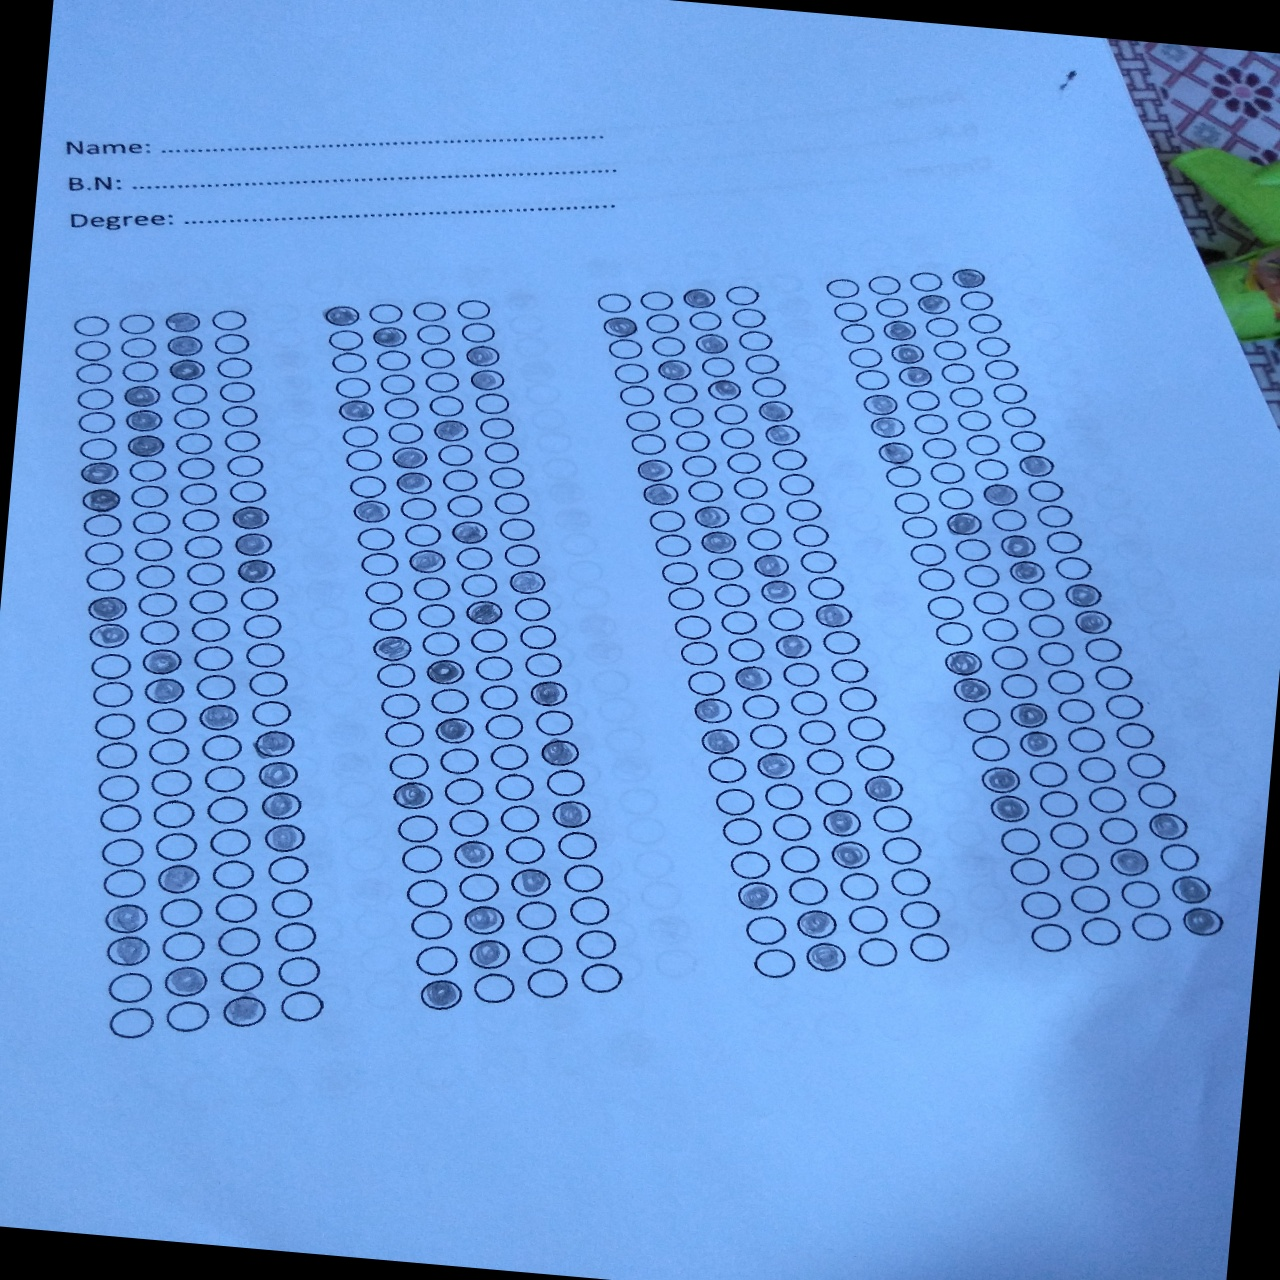not-c: (571, 925, 620, 962), (577, 960, 626, 998), (522, 964, 571, 1001), (217, 959, 265, 996), (268, 885, 316, 922), (211, 890, 259, 927), (751, 945, 799, 982), (742, 912, 790, 949), (162, 998, 211, 1034), (275, 988, 325, 1024), (274, 954, 324, 990), (270, 919, 319, 955), (156, 894, 205, 931), (263, 852, 312, 888), (517, 931, 566, 967), (853, 935, 903, 972), (215, 922, 263, 959), (159, 928, 207, 965), (209, 857, 257, 893), (470, 971, 518, 1007), (107, 1005, 156, 1040), (905, 930, 954, 965), (896, 898, 944, 933), (204, 792, 251, 828), (148, 765, 195, 801), (98, 835, 147, 869), (105, 971, 154, 1005), (207, 824, 253, 859), (1046, 817, 1091, 852), (1077, 914, 1123, 949), (787, 874, 833, 908), (760, 779, 806, 813), (704, 753, 751, 787), (845, 903, 892, 937), (712, 785, 760, 818), (850, 741, 898, 774), (151, 797, 196, 832), (248, 695, 293, 730), (101, 866, 147, 900), (198, 731, 244, 765), (144, 703, 190, 737), (445, 806, 491, 840), (1017, 888, 1063, 922), (1028, 921, 1074, 955), (1068, 881, 1114, 915), (145, 736, 192, 769), (245, 667, 292, 700), (728, 849, 775, 881), (777, 843, 824, 876), (878, 835, 925, 867), (869, 803, 915, 836), (719, 815, 765, 847), (801, 745, 847, 778), (154, 830, 198, 864), (543, 765, 587, 799), (497, 801, 542, 835), (400, 842, 444, 876), (456, 870, 501, 904), (503, 833, 547, 867), (515, 898, 559, 932), (409, 908, 454, 942), (414, 944, 458, 978), (998, 824, 1042, 858), (1007, 855, 1051, 888), (1057, 850, 1102, 884), (1157, 840, 1201, 874), (94, 740, 139, 772), (97, 802, 143, 835), (202, 763, 247, 796), (394, 813, 440, 846), (836, 870, 881, 903), (769, 811, 815, 844), (1116, 878, 1162, 911), (887, 866, 934, 898), (810, 776, 857, 808), (561, 862, 605, 896), (96, 771, 141, 804), (192, 670, 237, 703), (441, 775, 485, 808), (554, 830, 599, 863), (1129, 910, 1173, 942), (1133, 779, 1179, 811), (91, 709, 138, 740), (468, 625, 512, 656), (492, 771, 537, 803), (90, 679, 134, 710), (375, 660, 418, 692), (567, 896, 611, 927), (844, 713, 887, 744), (779, 659, 823, 690), (243, 640, 287, 670), (517, 621, 561, 652), (476, 682, 520, 713), (531, 708, 576, 738), (240, 611, 282, 642), (90, 651, 132, 682), (406, 877, 448, 908), (137, 617, 181, 647), (366, 604, 409, 634), (413, 600, 456, 631), (427, 686, 470, 716), (471, 654, 515, 685), (382, 720, 425, 750), (486, 742, 530, 772), (685, 668, 728, 699), (670, 612, 714, 642), (1036, 789, 1080, 819), (81, 539, 125, 568), (134, 561, 178, 591), (135, 590, 179, 619), (377, 692, 422, 721), (794, 717, 838, 747), (1096, 816, 1141, 845), (192, 644, 234, 674), (747, 721, 789, 751), (788, 688, 830, 719), (740, 692, 782, 722), (821, 627, 863, 658), (678, 639, 720, 669), (665, 584, 707, 614), (658, 558, 700, 588), (960, 706, 1002, 736), (969, 733, 1012, 763), (1027, 758, 1069, 789), (183, 559, 226, 588), (189, 615, 232, 645), (420, 629, 463, 659), (520, 651, 564, 680), (482, 712, 525, 741), (387, 753, 430, 782), (837, 685, 880, 714), (724, 636, 768, 666), (1085, 784, 1129, 813), (237, 585, 281, 613), (1114, 721, 1155, 751), (1075, 755, 1116, 785), (84, 565, 127, 594), (188, 587, 230, 617), (438, 745, 481, 775), (828, 656, 870, 686), (790, 520, 832, 550), (933, 619, 975, 648), (989, 644, 1032, 673), (1035, 640, 1077, 669), (1092, 663, 1135, 693), (129, 483, 172, 511), (493, 516, 537, 544), (359, 550, 402, 578), (510, 595, 553, 624), (797, 549, 840, 577), (646, 506, 689, 535), (1054, 697, 1097, 726), (402, 522, 445, 550), (998, 672, 1039, 701), (1103, 692, 1144, 721), (1065, 726, 1107, 755), (1126, 750, 1167, 779), (77, 435, 120, 463), (130, 509, 172, 537), (356, 526, 399, 554), (396, 495, 438, 523), (717, 608, 760, 636), (764, 605, 806, 633), (804, 574, 846, 602), (704, 554, 747, 583), (744, 525, 787, 553), (652, 531, 694, 559), (1082, 635, 1124, 663), (1044, 668, 1087, 696), (81, 511, 124, 538), (731, 474, 771, 503), (712, 581, 753, 610), (783, 496, 824, 524), (776, 471, 817, 499), (685, 477, 726, 505), (679, 451, 720, 479), (723, 449, 764, 477), (769, 445, 810, 474), (1053, 554, 1094, 583), (924, 593, 965, 621), (971, 588, 1012, 617), (127, 457, 169, 484), (175, 454, 217, 481), (179, 481, 222, 508), (179, 508, 222, 535), (182, 533, 224, 560), (444, 493, 486, 520), (490, 490, 532, 517), (501, 542, 543, 568), (411, 576, 454, 602), (457, 572, 499, 599), (362, 579, 404, 606), (914, 566, 956, 593), (978, 617, 1020, 644), (217, 377, 257, 406), (225, 452, 265, 481), (173, 429, 213, 457), (736, 499, 776, 527), (207, 306, 248, 333), (210, 331, 251, 358), (72, 338, 113, 365), (132, 536, 173, 563), (452, 545, 493, 572), (899, 515, 940, 542), (961, 561, 1002, 588), (1014, 585, 1055, 612), (1024, 612, 1065, 639), (440, 467, 479, 493), (937, 485, 976, 512), (222, 428, 263, 454), (952, 537, 993, 563), (987, 508, 1028, 533), (1033, 503, 1074, 529), (117, 311, 156, 338), (172, 406, 211, 433), (345, 447, 383, 474), (435, 442, 474, 469), (966, 309, 1005, 336), (972, 456, 1010, 483), (215, 355, 254, 381), (220, 403, 260, 429), (227, 479, 267, 505), (72, 313, 111, 339), (120, 359, 159, 384), (73, 361, 113, 387), (75, 386, 115, 411), (170, 381, 210, 407), (410, 298, 450, 324), (418, 346, 458, 372), (425, 393, 465, 418), (386, 420, 425, 445), (891, 490, 931, 516), (908, 542, 948, 567), (1044, 529, 1084, 554), (348, 474, 386, 501), (629, 431, 667, 458), (723, 282, 761, 309), (928, 459, 966, 486), (118, 335, 157, 361), (333, 374, 372, 400), (477, 414, 516, 440), (482, 440, 520, 465), (486, 465, 525, 491), (719, 424, 757, 450), (622, 408, 661, 434), (712, 401, 750, 427), (618, 382, 656, 408), (697, 353, 736, 379), (687, 308, 726, 334), (823, 275, 862, 301), (958, 287, 996, 313), (904, 386, 942, 411), (946, 384, 985, 410), (990, 381, 1029, 407), (939, 360, 978, 386), (930, 338, 968, 363), (974, 334, 1013, 360), (922, 315, 961, 341), (999, 404, 1037, 430), (883, 463, 921, 489), (76, 409, 116, 434), (366, 301, 406, 326), (744, 350, 781, 377), (847, 343, 884, 370), (341, 423, 379, 449), (673, 428, 710, 454), (668, 404, 706, 430), (662, 380, 700, 406), (613, 361, 651, 387), (606, 336, 644, 362), (649, 333, 687, 359), (736, 328, 774, 354), (907, 268, 945, 294), (982, 356, 1020, 382), (912, 411, 949, 437), (954, 408, 992, 434), (1009, 429, 1047, 455), (964, 433, 1001, 458), (919, 434, 956, 459), (1026, 478, 1063, 504), (458, 320, 497, 345), (326, 327, 365, 352), (329, 350, 368, 375), (377, 372, 416, 396), (381, 395, 420, 420), (472, 392, 511, 416), (750, 374, 787, 400), (853, 367, 890, 393), (415, 321, 452, 346), (423, 369, 461, 394), (594, 291, 632, 315), (452, 298, 491, 321), (731, 305, 767, 331), (644, 311, 680, 335), (866, 272, 903, 297), (638, 290, 675, 313), (375, 348, 411, 372), (874, 295, 910, 319), (839, 321, 874, 345), (835, 300, 869, 324)
taken-c: (505, 864, 554, 901), (804, 939, 852, 976), (154, 862, 203, 898), (450, 836, 499, 872), (754, 750, 803, 787), (105, 934, 154, 971), (418, 976, 467, 1013), (549, 796, 597, 832), (734, 878, 782, 914), (733, 877, 781, 913), (1179, 904, 1227, 940), (103, 901, 152, 937), (161, 964, 210, 999), (794, 908, 843, 944), (817, 806, 866, 842), (222, 994, 268, 1030), (828, 837, 874, 873), (467, 937, 515, 972), (387, 779, 436, 813), (862, 771, 908, 806), (1167, 872, 1214, 907), (459, 903, 508, 937), (697, 726, 745, 760), (1144, 809, 1190, 844), (690, 695, 736, 729), (731, 662, 777, 696), (986, 792, 1032, 826), (979, 763, 1024, 797), (1006, 699, 1051, 733), (949, 674, 995, 708), (771, 629, 817, 663), (141, 675, 188, 708), (1107, 845, 1153, 878), (1015, 729, 1060, 763), (253, 727, 299, 760), (263, 822, 308, 855), (526, 678, 572, 710), (503, 567, 550, 599), (256, 760, 301, 791), (422, 658, 468, 689), (404, 547, 450, 579), (347, 496, 393, 527), (139, 646, 184, 678), (259, 790, 304, 822), (430, 715, 475, 747), (465, 598, 510, 629), (445, 517, 490, 549), (536, 737, 584, 767), (196, 702, 241, 733), (368, 633, 414, 663), (811, 601, 855, 633), (942, 648, 987, 679), (942, 510, 987, 540), (978, 481, 1022, 511), (234, 529, 277, 560), (86, 620, 129, 651), (1062, 583, 1107, 612), (1005, 558, 1049, 587), (234, 557, 278, 586), (229, 503, 271, 532), (388, 444, 430, 474), (121, 383, 164, 411), (80, 486, 123, 515), (88, 594, 131, 622), (1071, 608, 1115, 636), (996, 533, 1040, 561), (869, 413, 908, 443), (320, 301, 361, 331), (1016, 452, 1057, 482), (858, 392, 899, 421), (758, 577, 799, 606), (123, 406, 165, 434), (429, 417, 471, 445), (461, 343, 503, 372), (751, 552, 794, 580), (896, 363, 935, 393), (392, 469, 433, 497), (467, 366, 508, 394), (335, 397, 376, 425), (369, 324, 410, 352), (124, 433, 166, 459), (877, 438, 917, 467), (887, 340, 927, 368), (880, 316, 920, 345), (948, 265, 988, 293), (680, 284, 720, 312), (706, 377, 745, 406), (162, 309, 205, 335), (166, 356, 207, 383), (80, 459, 121, 486), (914, 291, 953, 319), (601, 314, 640, 342), (655, 356, 694, 384), (755, 397, 794, 425), (762, 421, 801, 449), (636, 456, 675, 484), (693, 502, 731, 530), (700, 527, 738, 556), (164, 334, 207, 359), (692, 331, 730, 358), (641, 481, 680, 508)
